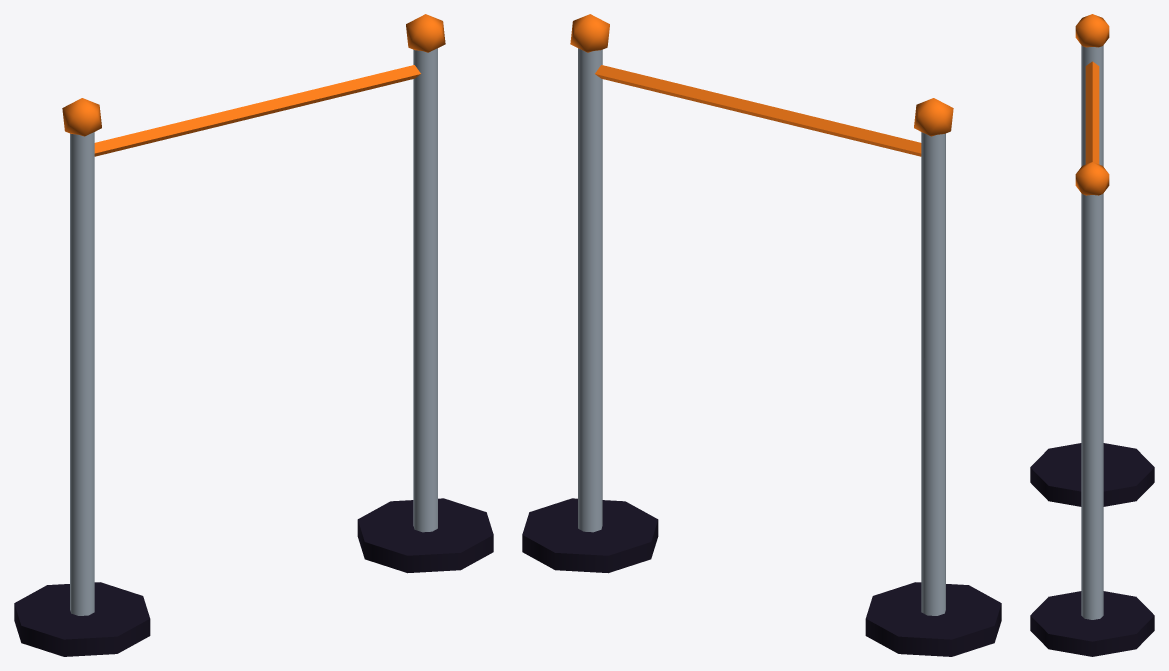
File: station_special_ausstattung_3_1.glb
3 renders of one model, left to right at view 1: azimuth 30°, elevation 25°; view 2: azimuth 150°, elevation 25°; view 3: azimuth 270°, elevation 25°, orthographic. The views are drawn at different scales.
Visible parts, largest first — view 1: station_special_ausstattung_3_1; view 2: station_special_ausstattung_3_1; view 3: station_special_ausstattung_3_1.
Boxes of the visible parts, x1,y1,x2,y2 form: station_special_ausstattung_3_1: [14, 14, 493, 656]; station_special_ausstattung_3_1: [522, 14, 1001, 656]; station_special_ausstattung_3_1: [1030, 14, 1154, 656].
Bounding box in the file's own units: 0.84 × 0.915 × 0.22.
